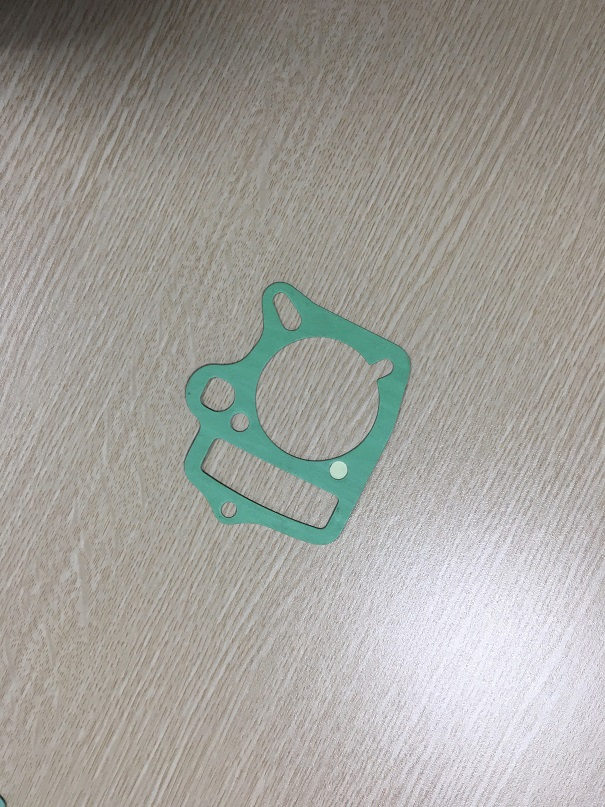type4: (165, 275, 423, 555)
